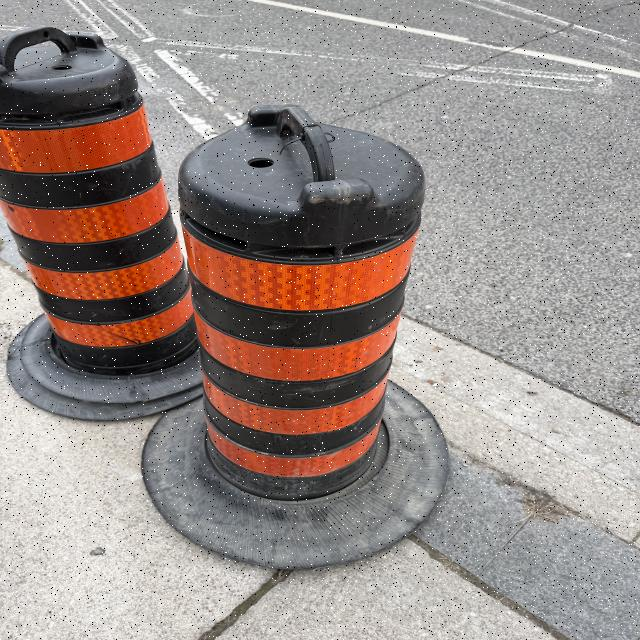Teraffic Barrel: (143, 106, 447, 568), (0, 27, 201, 419)
